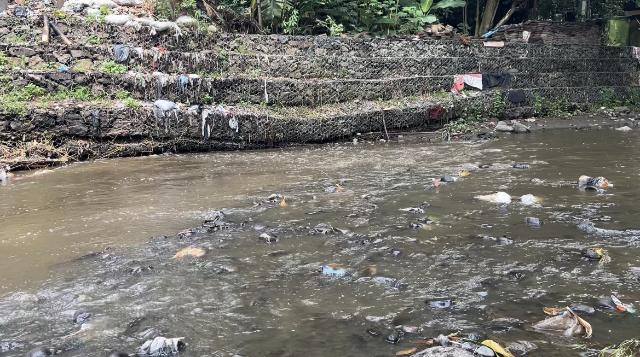Sampah Anorganik: (537, 304, 595, 341), (605, 295, 640, 315), (576, 178, 613, 191), (477, 191, 510, 204), (319, 264, 342, 276), (517, 194, 539, 206), (398, 208, 427, 215), (457, 171, 470, 176)
Sampah Organik: (395, 333, 514, 357), (166, 249, 203, 260), (412, 218, 436, 229), (363, 265, 377, 276), (591, 247, 605, 256), (278, 198, 288, 207), (334, 185, 345, 191), (431, 180, 439, 187)
